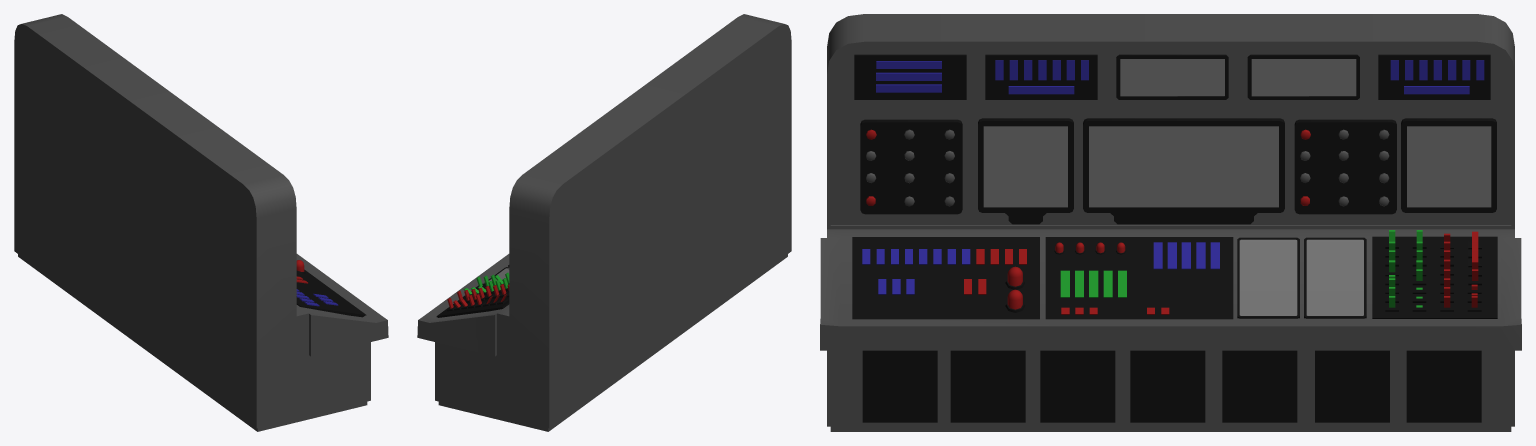
File: SM_Room_hub_console1.fbx
3 renders of one model, left to right at view 1: azimuth 30°, elevation 25°; view 2: azimuth 150°, elevation 25°; view 3: azimuth 270°, elevation 25°, orthographic. The views are drawn at different scales.
Parts seen in each view (by area): view 1: Box018; view 2: Box018; view 3: Box018.
Part boxes in pixels (x1,y1,x2,y2): Box018: (14, 14, 388, 431); Box018: (417, 14, 791, 431); Box018: (820, 14, 1521, 431).
Size of the model in its own units: 170 by 561 by 300.
